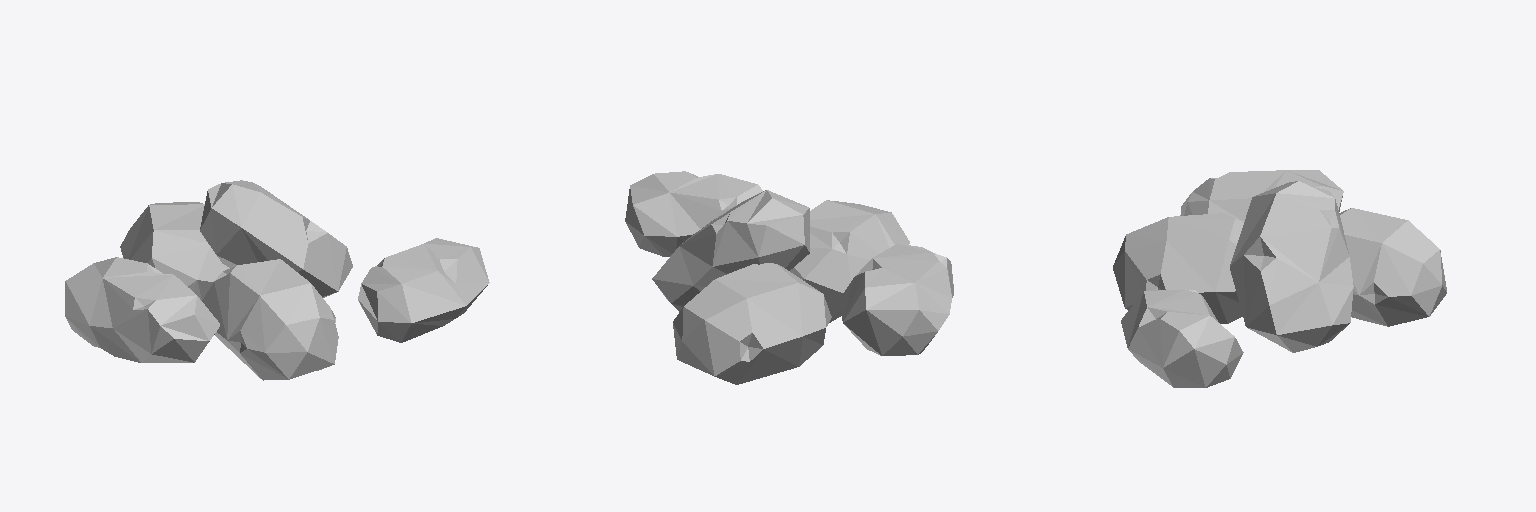
Rendered from SM_Prop_Potato_01_Group.obj.
3 views of the same model, side by side, from view 1: azimuth 30°, elevation 25°; view 2: azimuth 150°, elevation 25°; view 3: azimuth 270°, elevation 25° (orthographic).
Size of the model in its own units: 36.97 by 13.33 by 29.65.